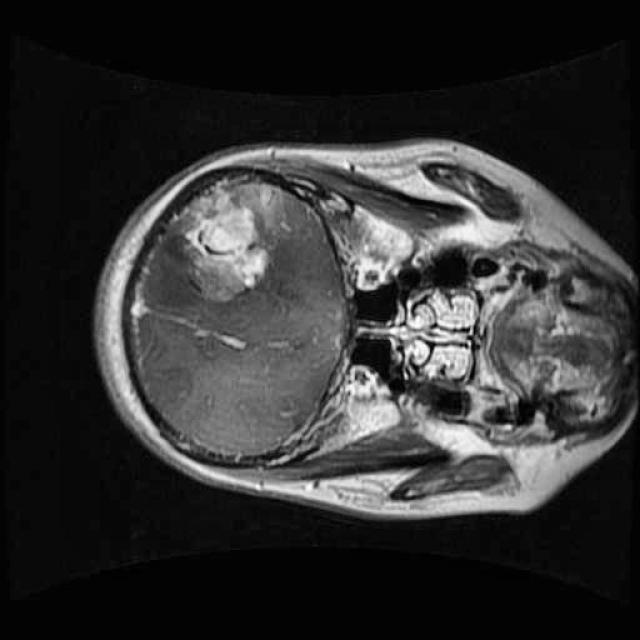Tumor: (147, 158, 299, 317)
